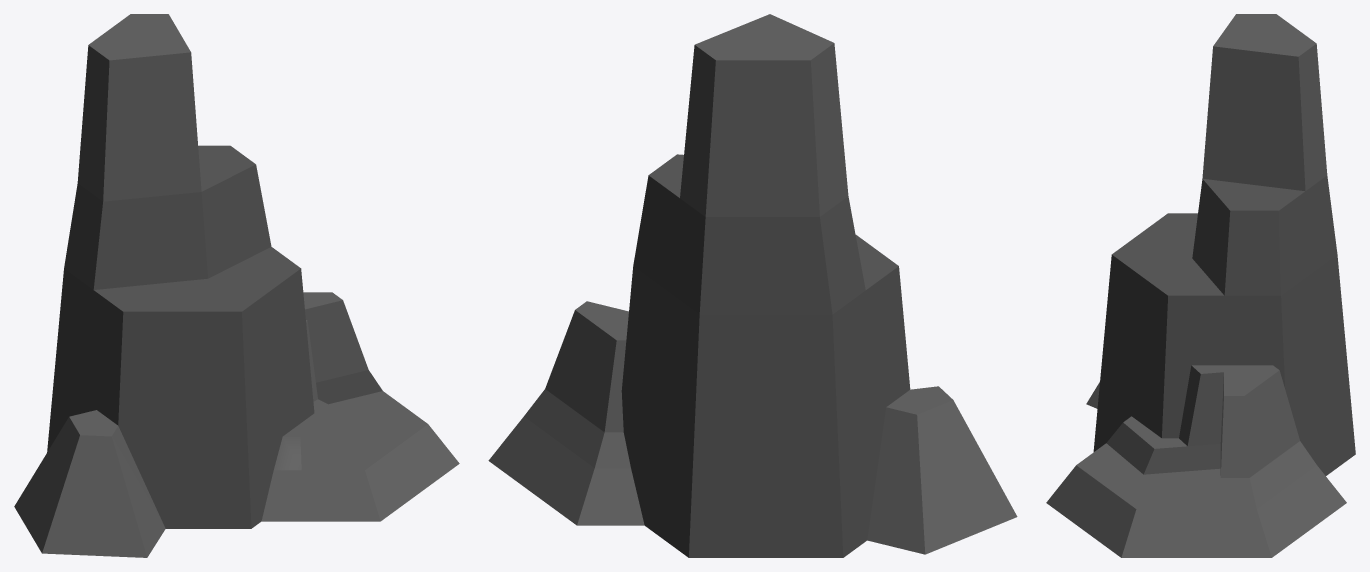
The model's file is stoneOre2.fbx.
3 renders of one model, left to right at view 1: azimuth 30°, elevation 25°; view 2: azimuth 150°, elevation 25°; view 3: azimuth 270°, elevation 25°, orthographic. The views are drawn at different scales.
Visible parts, largest first — view 1: stone_tallA; view 2: stone_tallA; view 3: stone_tallA.
Part boxes in pixels (x1,y1,x2,y2): stone_tallA: (14, 14, 459, 557); stone_tallA: (488, 14, 1017, 557); stone_tallA: (1046, 14, 1355, 557).
Bounding box in the file's own units: 2.23 × 2.26 × 1.55.
